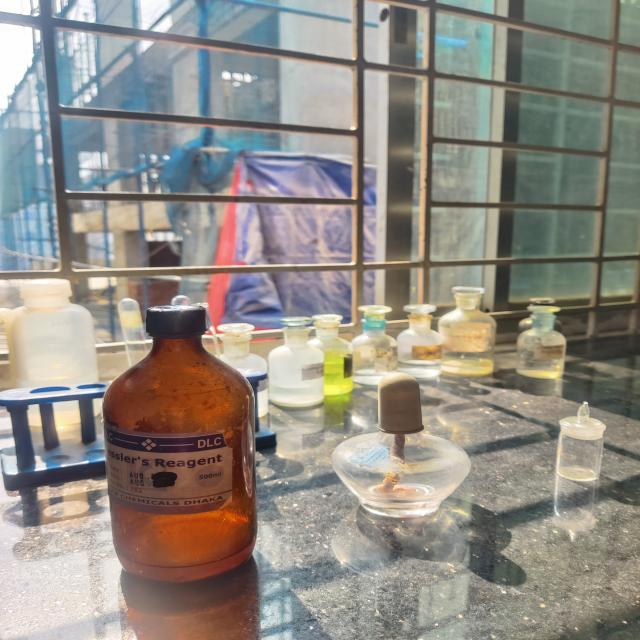Nessler_Reagent_Bottle: (94, 293, 282, 578)
Spirit_Lamp: (314, 365, 482, 533)
Weighing_Bottle: (544, 399, 629, 492)
